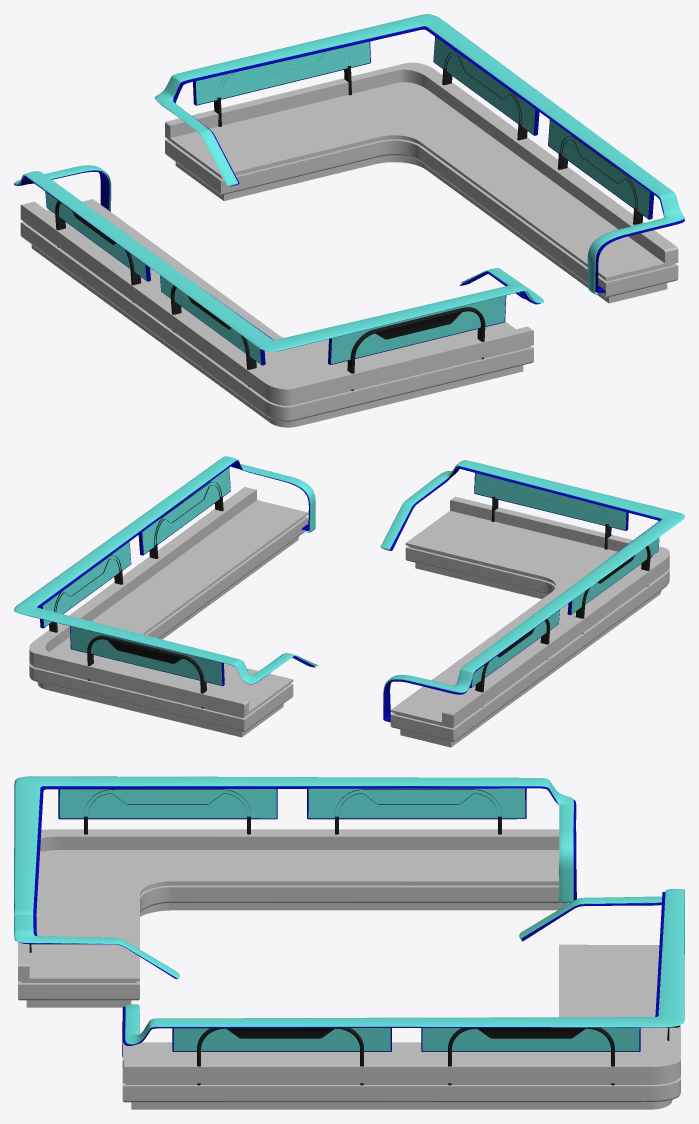
Rendered from Sofa_Mesh.fbx.
The picture shows the model from 3 angles, top to bottom: view 1: azimuth 30°, elevation 25°; view 2: azimuth 150°, elevation 25°; view 3: azimuth 270°, elevation 25°; orthographic projection. The views are drawn at different scales.
Visible parts, largest first — view 1: Sofa_Mesh; view 2: Sofa_Mesh; view 3: Sofa_Mesh.
Part boxes in pixels (x1,y1,x2,y2): Sofa_Mesh: (14,14,684,427); Sofa_Mesh: (14,456,684,747); Sofa_Mesh: (14,776,684,1109).
Size of the model in its own units: 621 by 109 by 702.
